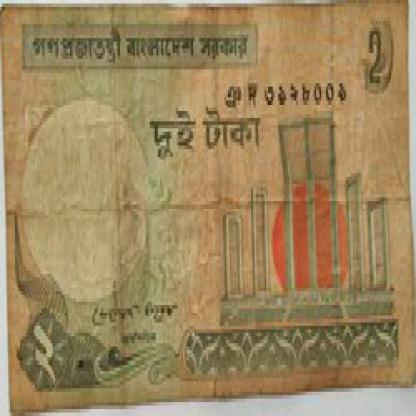two taka: (25, 312, 67, 385), (360, 24, 390, 101)
